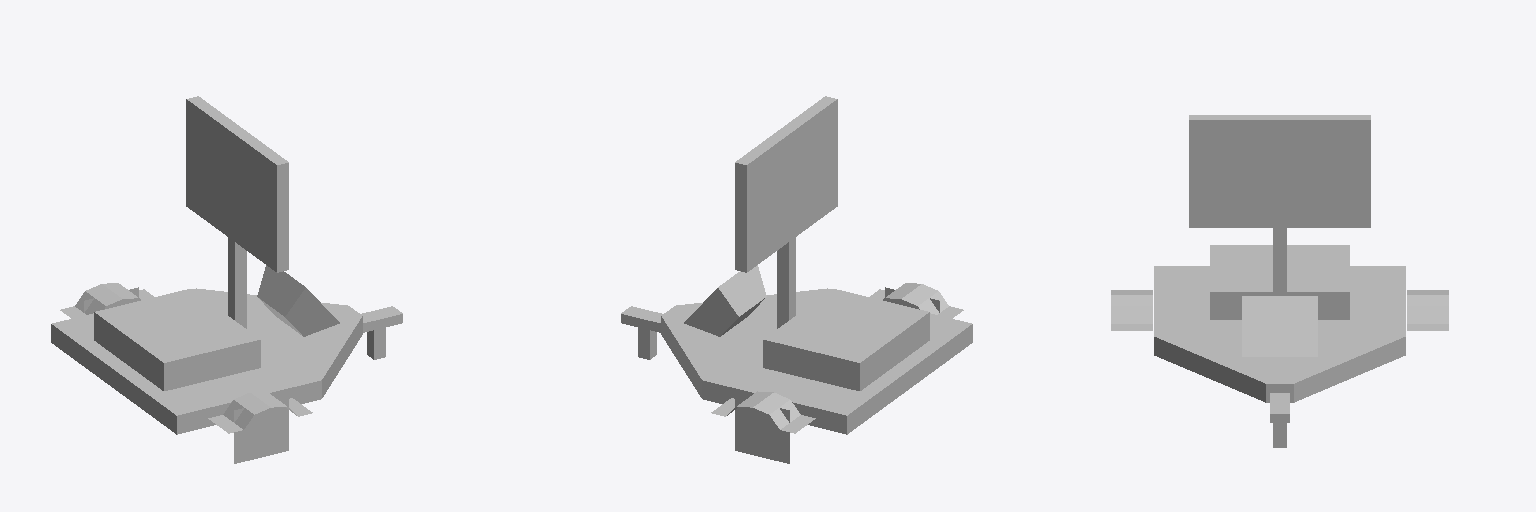
The model's file is VMS.obj.
3 renders of one model, left to right at view 1: azimuth 30°, elevation 25°; view 2: azimuth 150°, elevation 25°; view 3: azimuth 270°, elevation 25°, orthographic.
Parts seen in each view (by area): view 1: vms; view 2: vms; view 3: vms.
Boxes of the visible parts, x1=… form: vms: x1=51, y1=96, x2=402, y2=463; vms: x1=621, y1=96, x2=972, y2=463; vms: x1=1111, y1=115, x2=1448, y2=447.
Bounding box in the file's own units: 94 × 82 × 97.